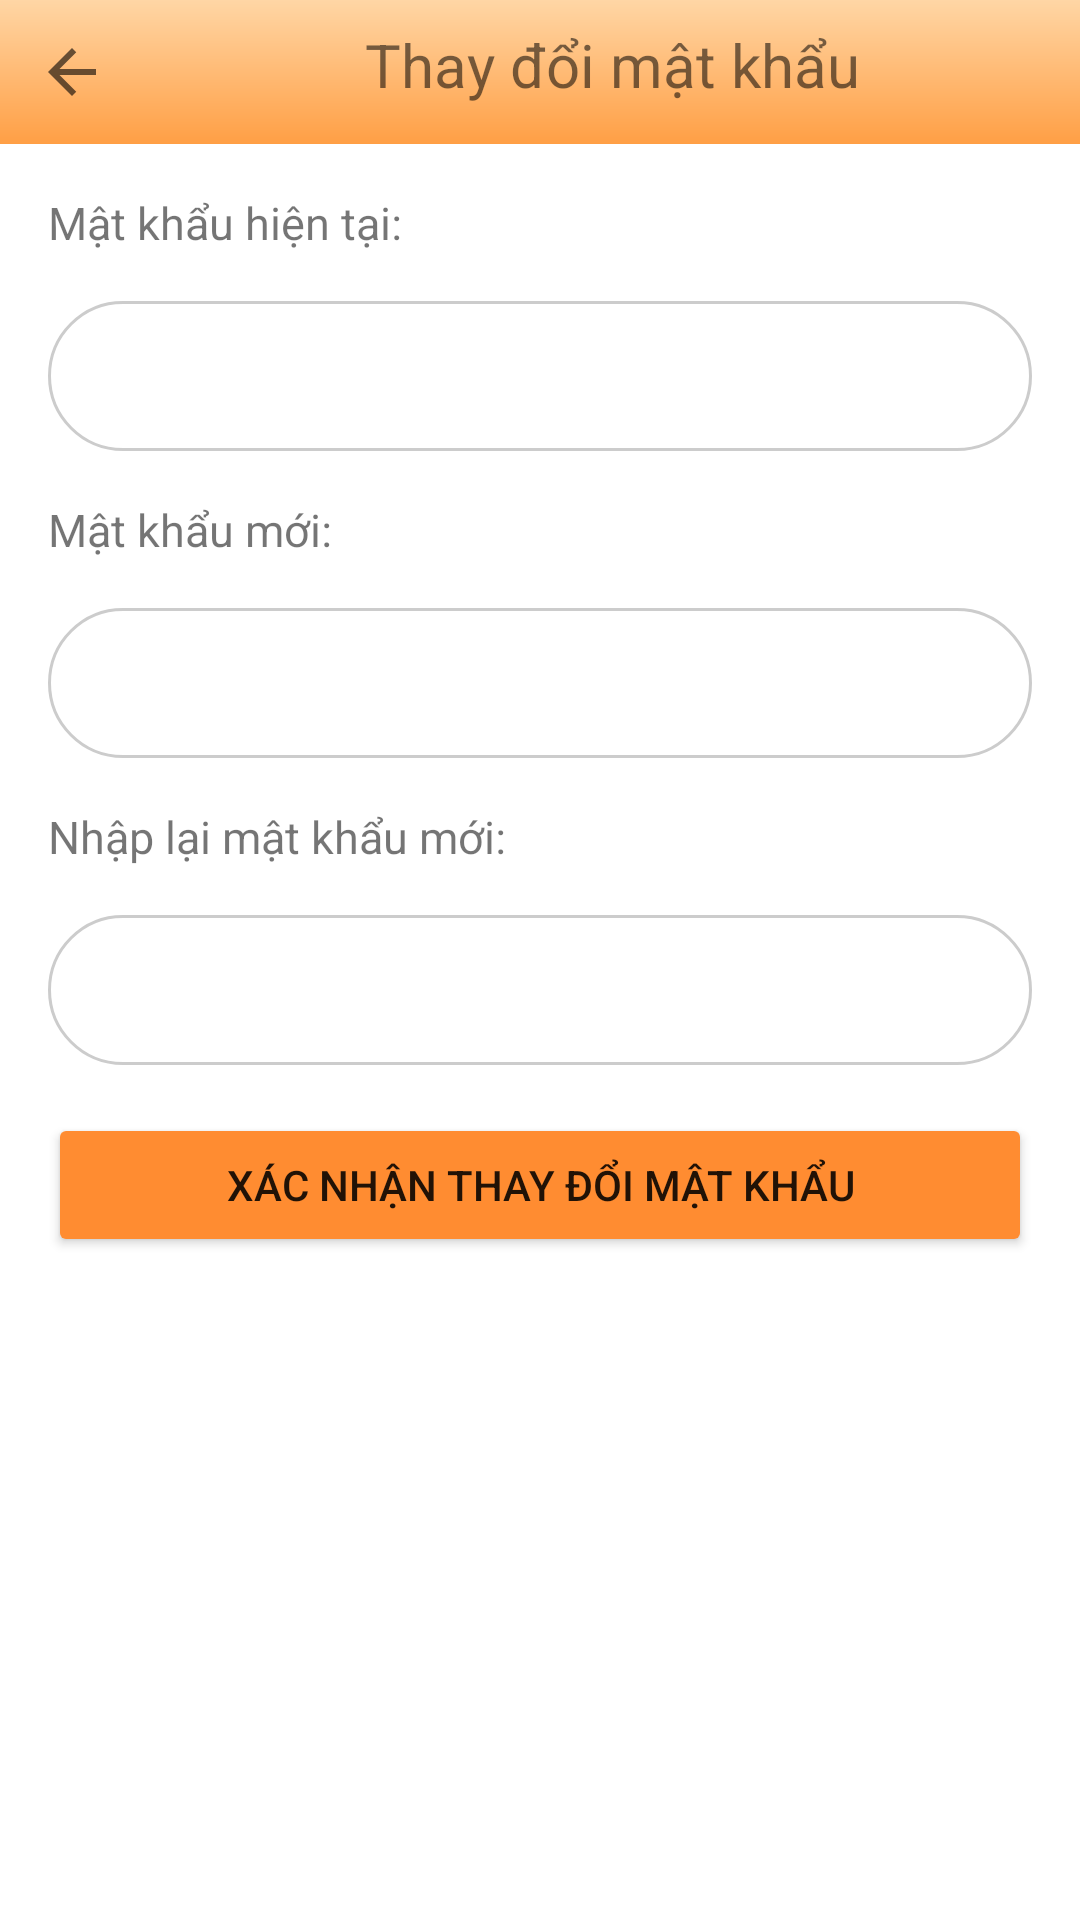

Icons on this 1080×1920 Android screen, each with the point to tap as point (x, y):
arrow back: point (72, 72)
